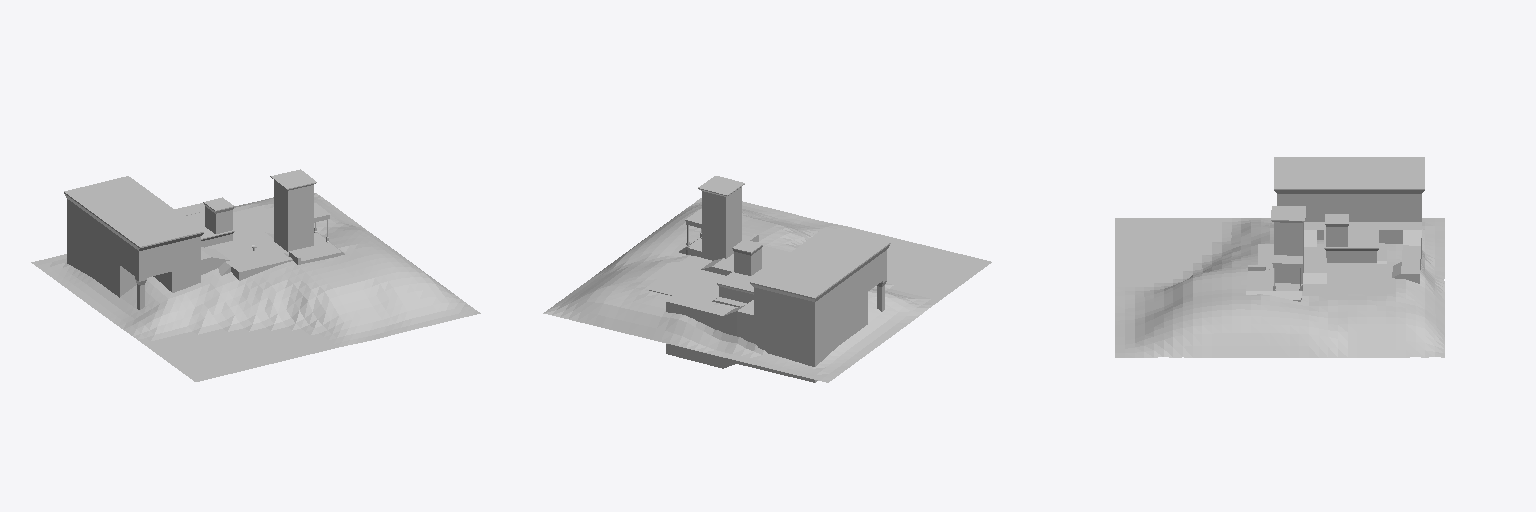
Rendered from italy.obj.
3 renders of one model, left to right at view 1: azimuth 30°, elevation 25°; view 2: azimuth 150°, elevation 25°; view 3: azimuth 270°, elevation 25°, orthographic.
Visible parts, largest first — view 1: Plane, Cube.001, Cube, Cube.003, Cube.002, Cube.004; view 2: Plane, Cube.001, Cube, Cube.002, Cube.004, Cube.003; view 3: Plane, Cube.001, Cube, Cube.002, Cube.004, Cube.003.
Part boxes in pixels (bbox=[...]): Plane: bbox=[31, 193, 480, 381]; Cube.001: bbox=[64, 176, 229, 309]; Cube: bbox=[270, 169, 344, 264]; Cube.003: bbox=[205, 232, 292, 280]; Cube.002: bbox=[184, 197, 234, 247]; Cube.004: bbox=[233, 206, 273, 239]; Plane: bbox=[543, 198, 991, 382]; Cube.001: bbox=[666, 227, 890, 382]; Cube: bbox=[679, 176, 758, 260]; Cube.002: bbox=[712, 239, 766, 306]; Cube.004: bbox=[648, 256, 725, 303]; Cube.003: bbox=[701, 245, 790, 275]; Plane: bbox=[1115, 218, 1444, 357]; Cube.001: bbox=[1274, 157, 1424, 283]; Cube: bbox=[1246, 206, 1305, 301]; Cube.002: bbox=[1324, 214, 1386, 263]; Cube.004: bbox=[1302, 262, 1394, 293]; Cube.003: bbox=[1258, 244, 1326, 283].
Size of the model in its own units: 80.04 by 33.99 by 80.05.